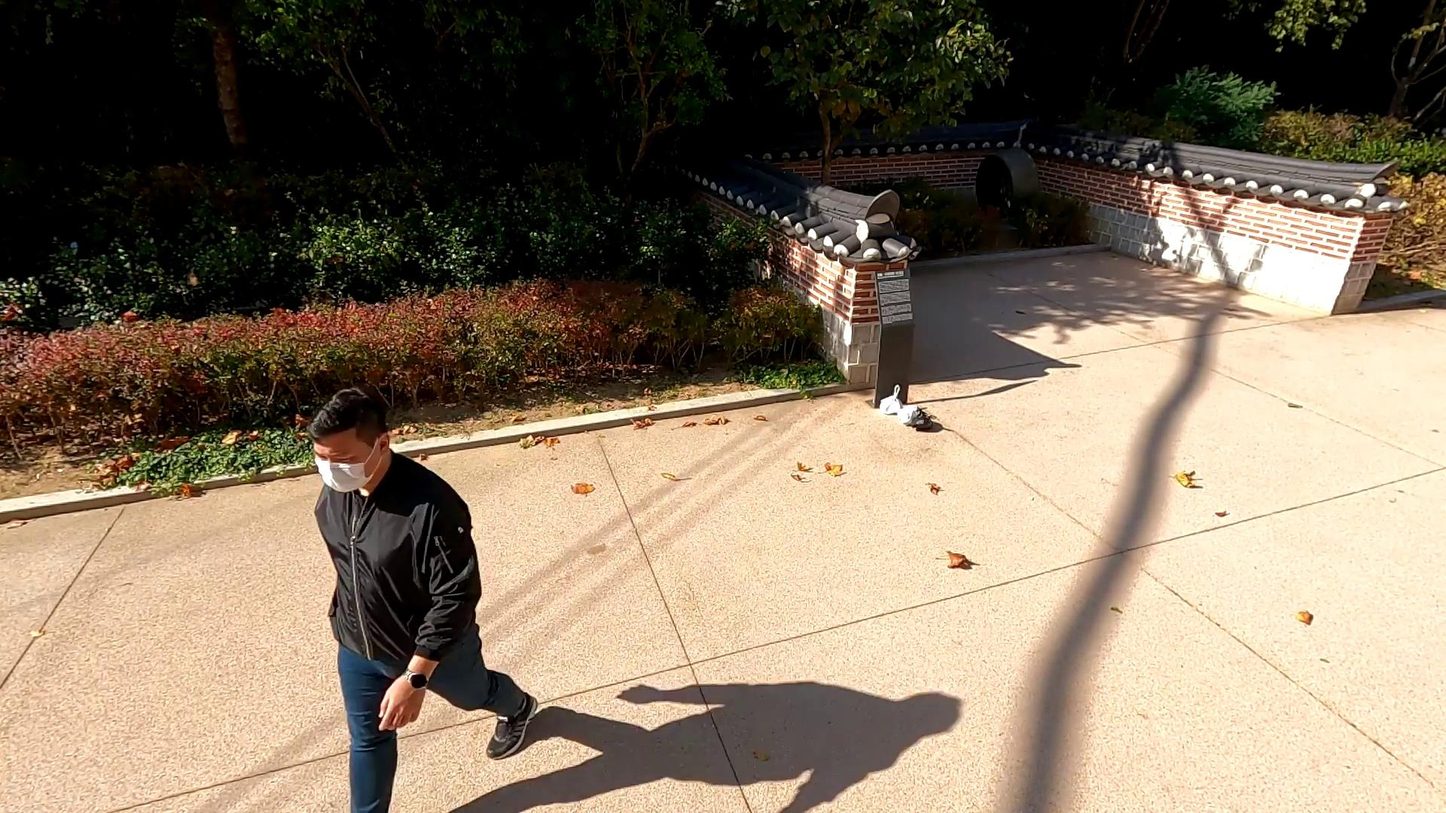person: (304, 383, 541, 813)
trash: (904, 404, 938, 432), (893, 401, 926, 428), (877, 384, 904, 416)
